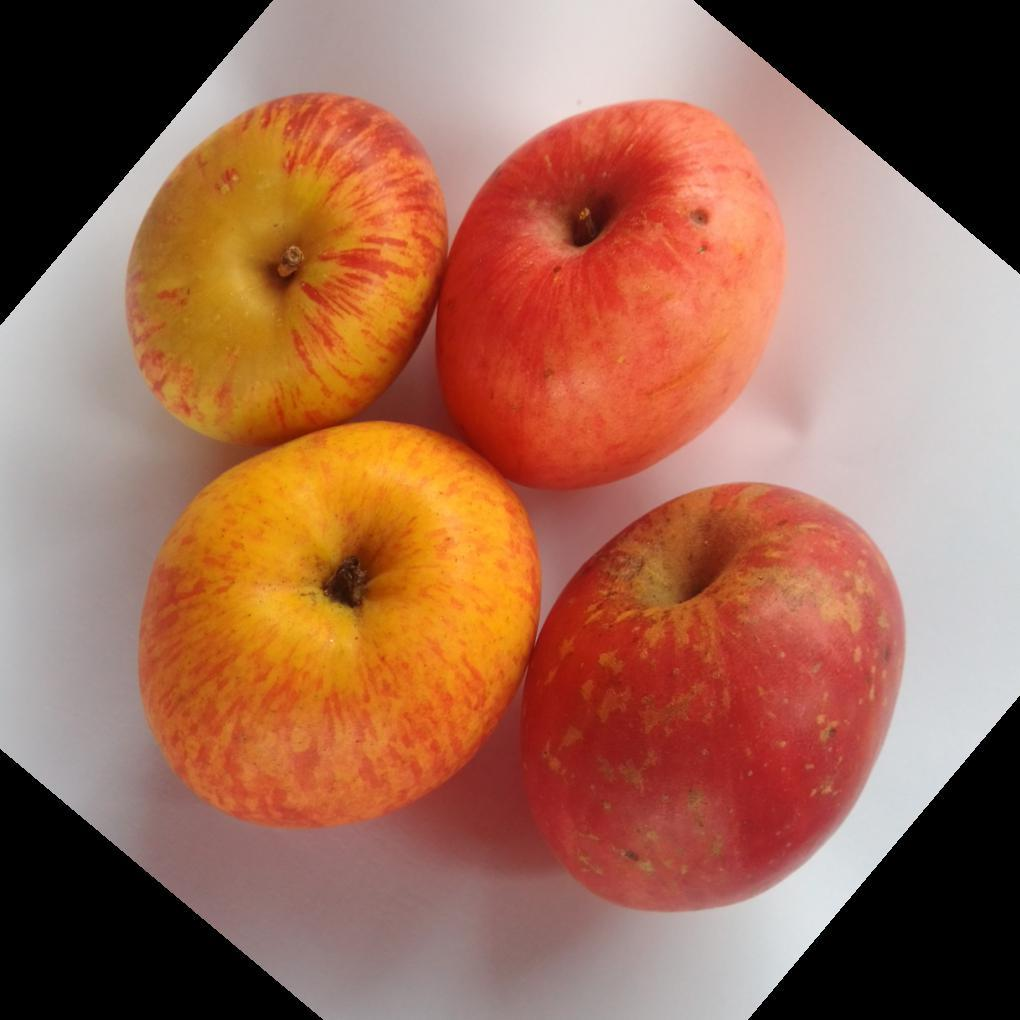FreshGuava: (125, 93, 906, 916)
